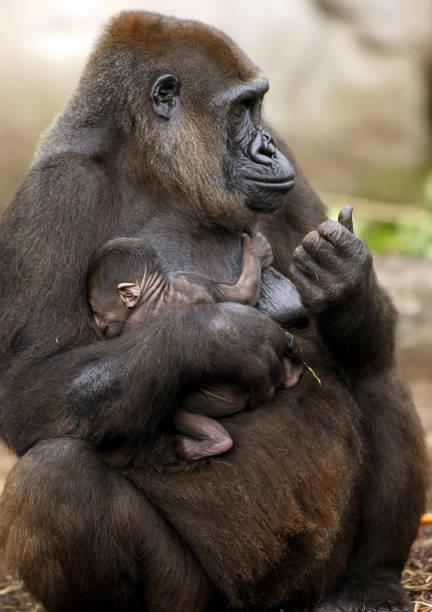gorille_Autres: (1, 1, 432, 612)
